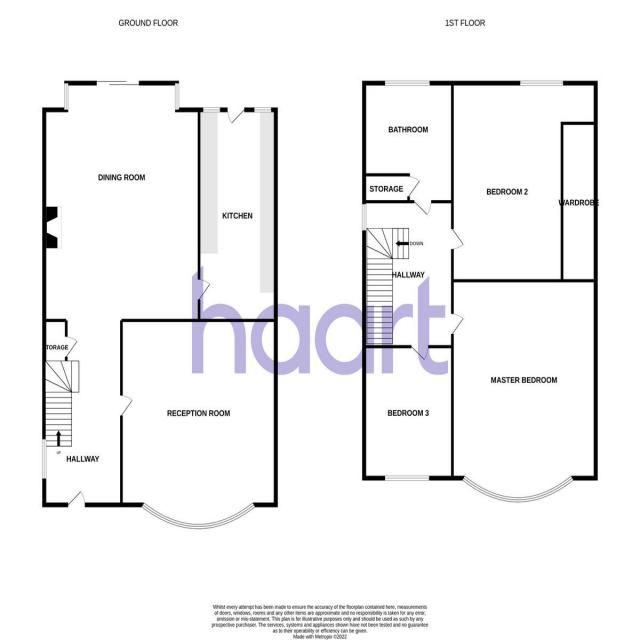DOOR: (67, 490, 86, 507), (197, 278, 211, 301), (451, 313, 465, 335), (451, 228, 465, 250), (227, 107, 245, 124), (410, 345, 429, 361), (414, 200, 432, 216), (120, 395, 133, 417)
ROOM: (42, 80, 211, 323), (119, 318, 278, 530), (451, 279, 598, 503), (451, 80, 598, 283), (197, 107, 278, 322), (362, 345, 454, 481)
WINDOW: (461, 475, 574, 503), (141, 502, 256, 529), (384, 80, 431, 86), (384, 475, 430, 481), (520, 80, 564, 86), (42, 439, 47, 479), (175, 82, 180, 111), (64, 83, 69, 111), (203, 107, 221, 113), (254, 107, 271, 113)
